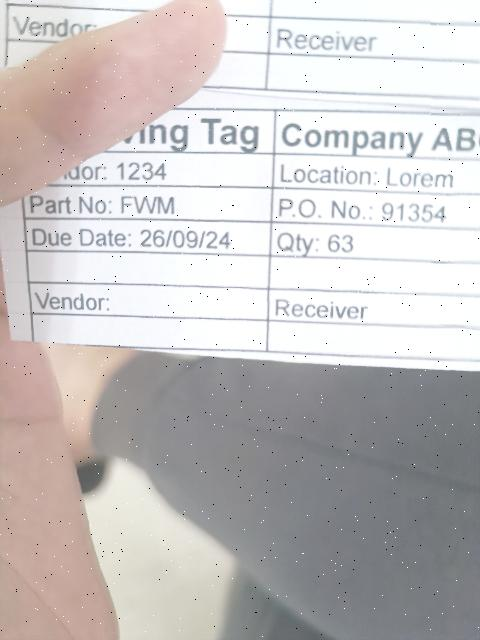PO no: (270, 188, 480, 231)
part no: (21, 184, 273, 225)
qty: (270, 221, 480, 266)
tags: (0, 107, 480, 372)
